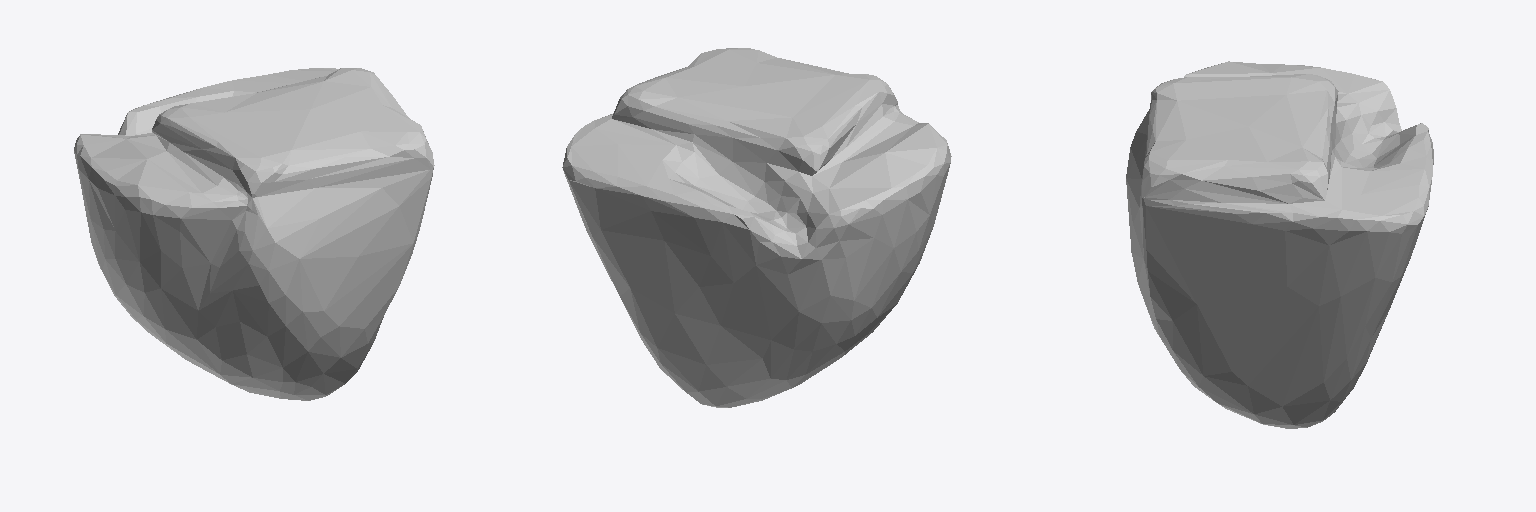
File: island.obj
3 renders of one model, left to right at view 1: azimuth 30°, elevation 25°; view 2: azimuth 150°, elevation 25°; view 3: azimuth 270°, elevation 25°, orthographic.
Visible parts, largest first — view 1: Island; view 2: Island; view 3: Island.
Part boxes in pixels (bbox=[...]): Island: bbox=[74, 68, 434, 400]; Island: bbox=[562, 48, 951, 407]; Island: bbox=[1126, 61, 1433, 428].
Bounding box in the file's own units: 2.27 × 2.08 × 1.94.